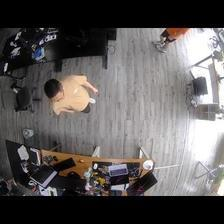normal: (45, 73, 98, 117), (154, 27, 189, 53)
